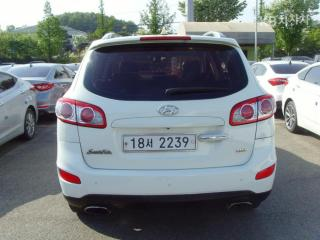1: (130, 137, 137, 149)
2: (166, 136, 175, 149), (159, 137, 166, 149)
3: (174, 136, 182, 148)
8: (137, 137, 146, 149)
9: (182, 136, 190, 149)
서: (146, 137, 154, 149)
